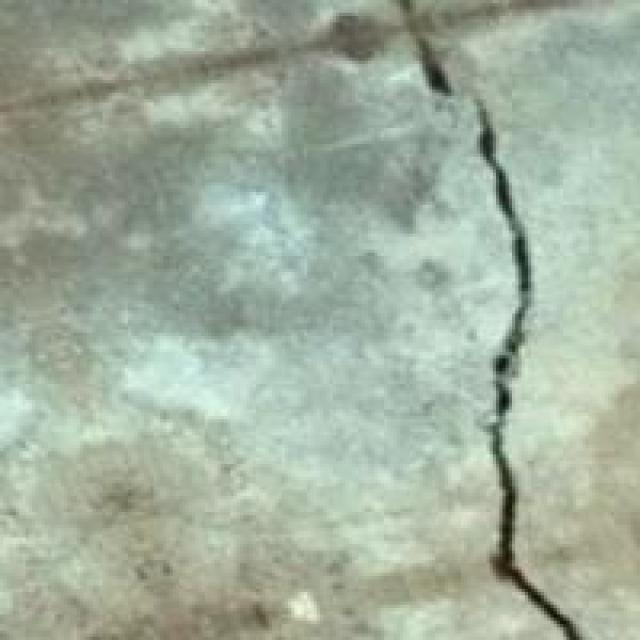crack: (333, 9, 630, 636)
